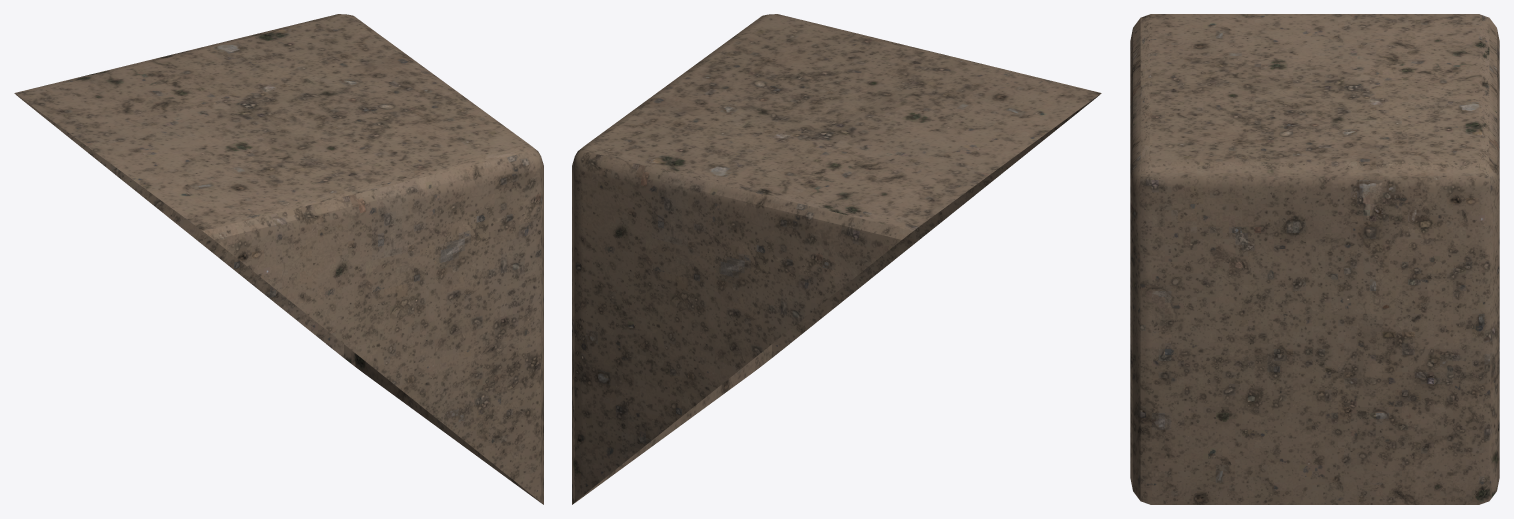
The model's file is triangular jump.fbx.
3 renders of one model, left to right at view 1: azimuth 30°, elevation 25°; view 2: azimuth 150°, elevation 25°; view 3: azimuth 270°, elevation 25°, orthographic. The views are drawn at different scales.
Parts seen in each view (by area): view 1: Cube; view 2: Cube; view 3: Cube.
Boxes of the visible parts, x1,y1,x2,y2 form: Cube: (14, 14, 543, 504); Cube: (572, 14, 1101, 504); Cube: (1130, 14, 1499, 504).
Size of the model in its own units: 200 by 200 by 200.
